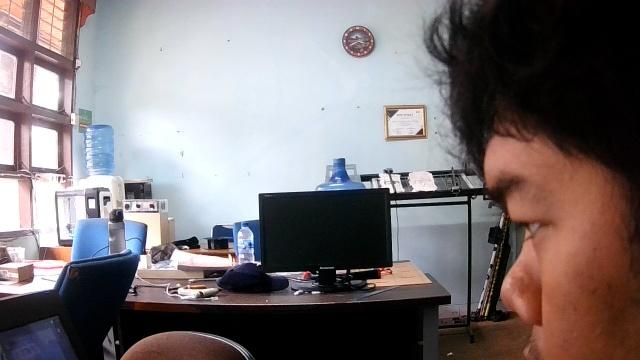AIO PC-Monitor-TV: (257, 186, 392, 293)
